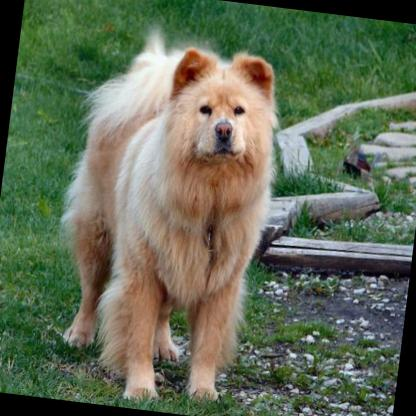chow: (40, 18, 292, 412)
